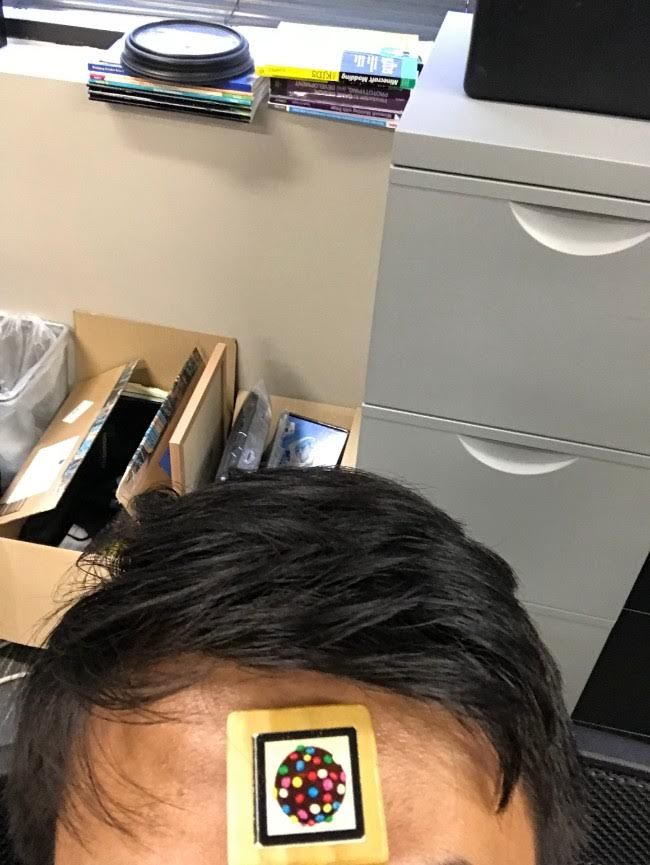cookie: (252, 725, 365, 846)
